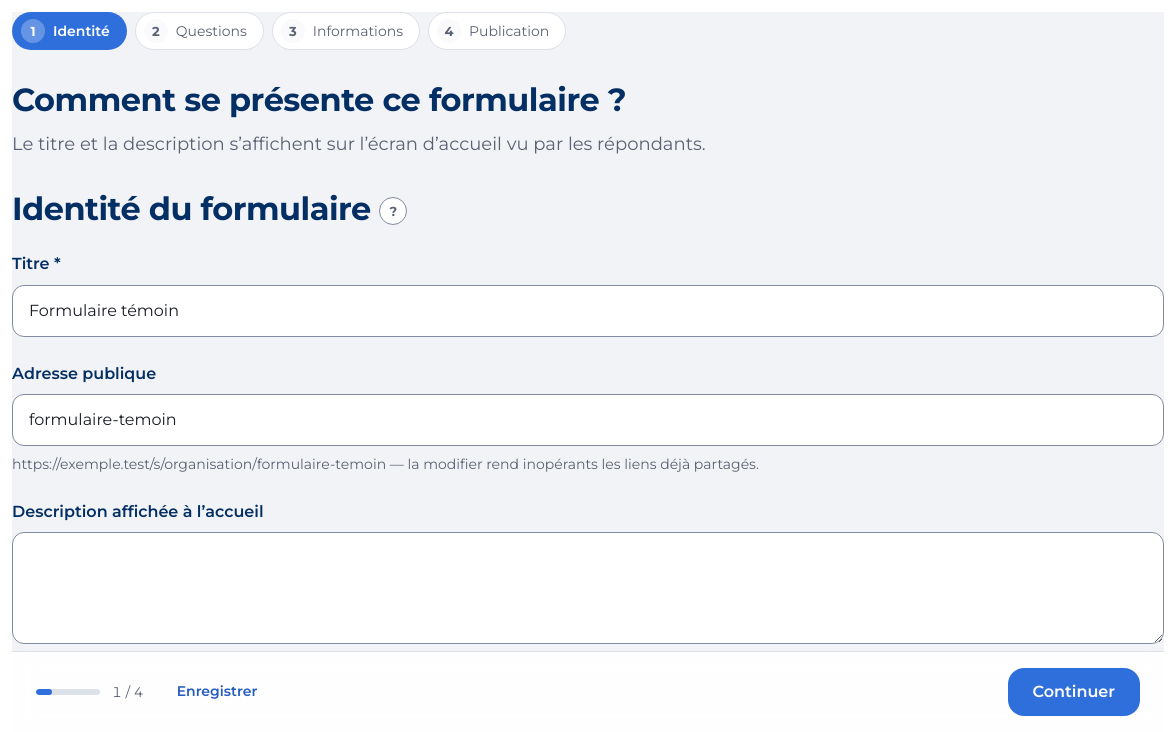
Test: manipulation au clavier › annonce l’échec d’un enregistrement au lieu de le taire
Click the button "Enregistrer" at (217, 692), box [160, 673, 274, 711]
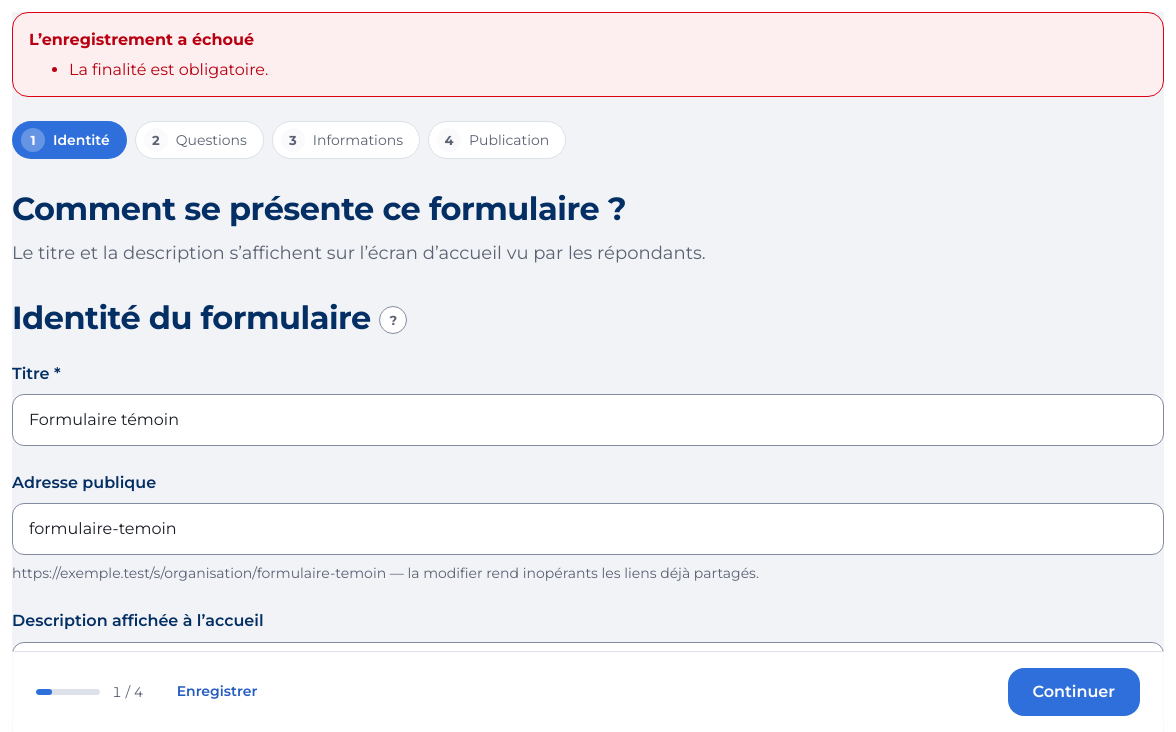
Expected: the number of messages is 1, [12, 12, 1164, 97]
Expected: the message shows "L’enregistrement a échoué", [29, 30, 254, 49]
Expected: the message shows "La finalité est obligatoire.", [69, 60, 268, 79]
